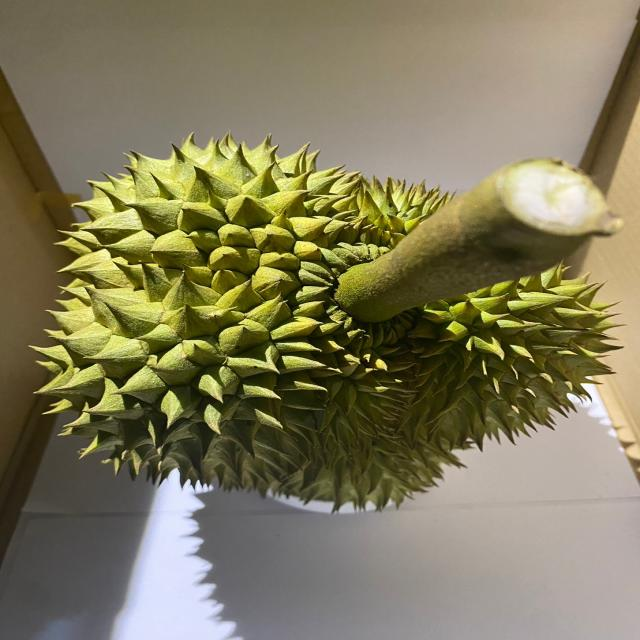immature: (32, 131, 626, 514)
